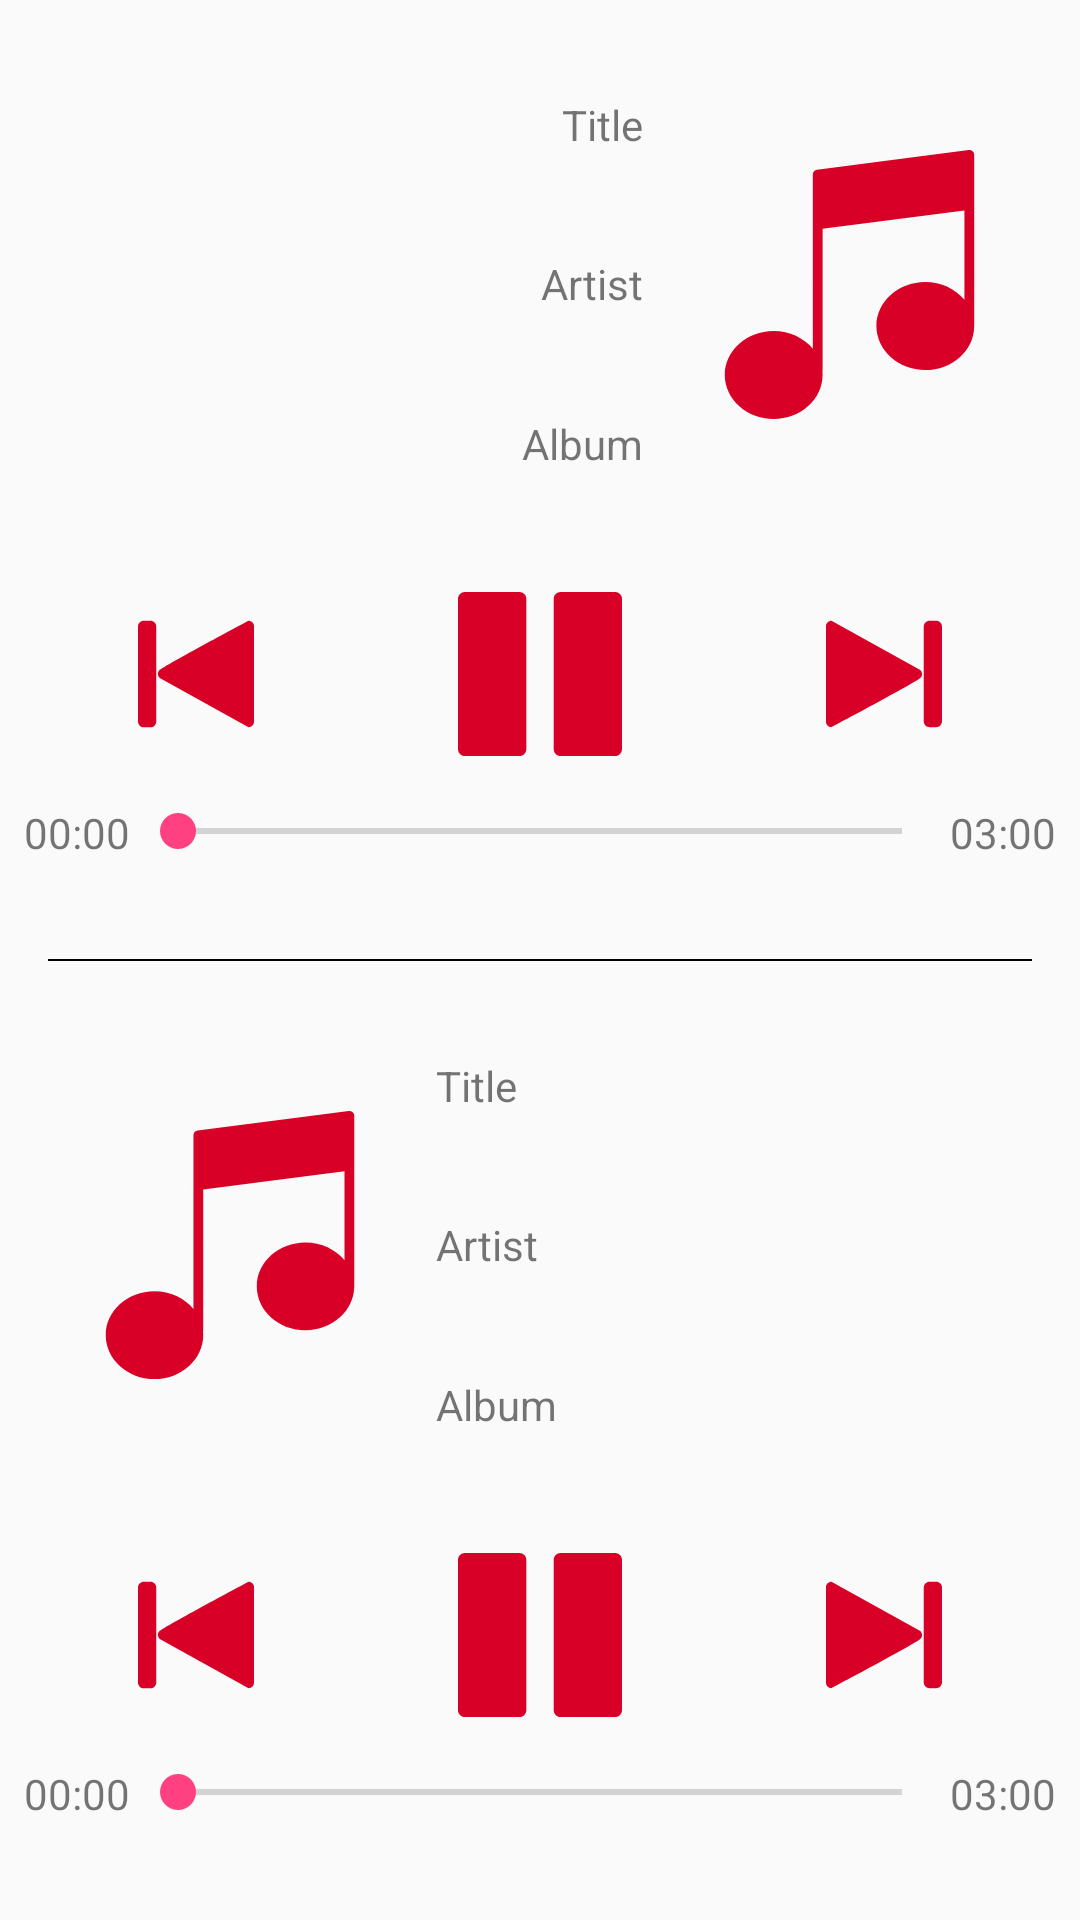

Locate icon controls on the screen. Image size 1080 × 1920, boxes as (x1, y1, x2, y2).
noti next track: (826, 620, 942, 728), (826, 1581, 942, 1689)
noti pause: (458, 592, 622, 756), (458, 1553, 622, 1717)
noti previous track: (138, 620, 254, 728), (138, 1581, 254, 1689)
